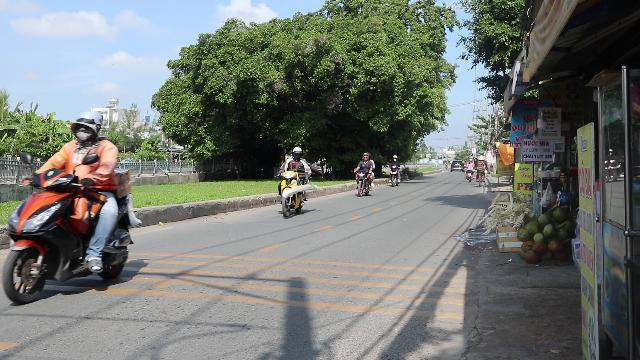helmet: (70, 111, 104, 143)
motorcyclist: (2, 108, 144, 300)
